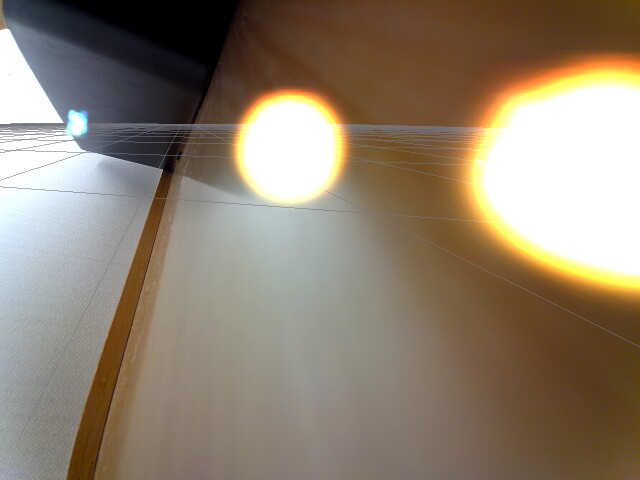firebig: (449, 52, 640, 307)
